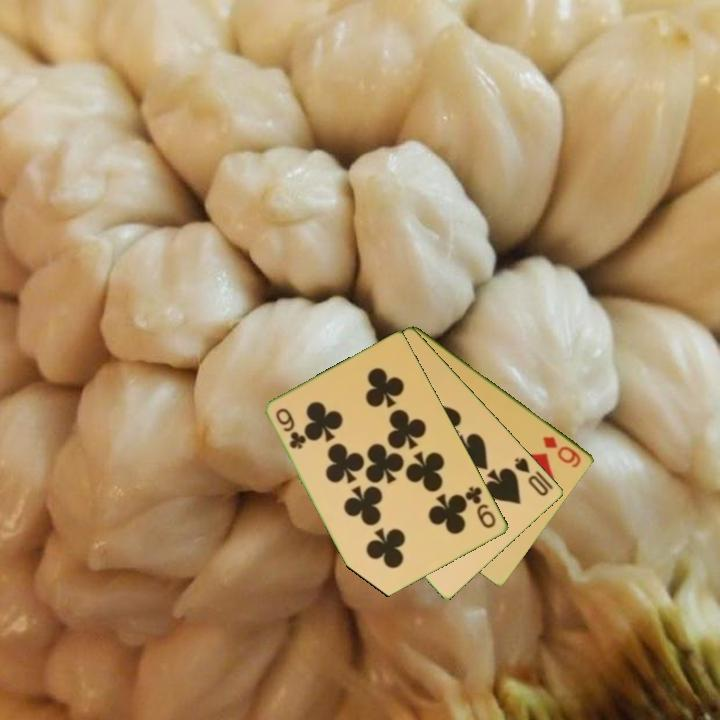10s: (511, 454, 552, 499)
6d: (540, 433, 584, 471)
9c: (462, 483, 499, 532), (272, 404, 308, 452)
